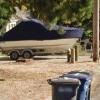Boat: (1, 15, 80, 64)
